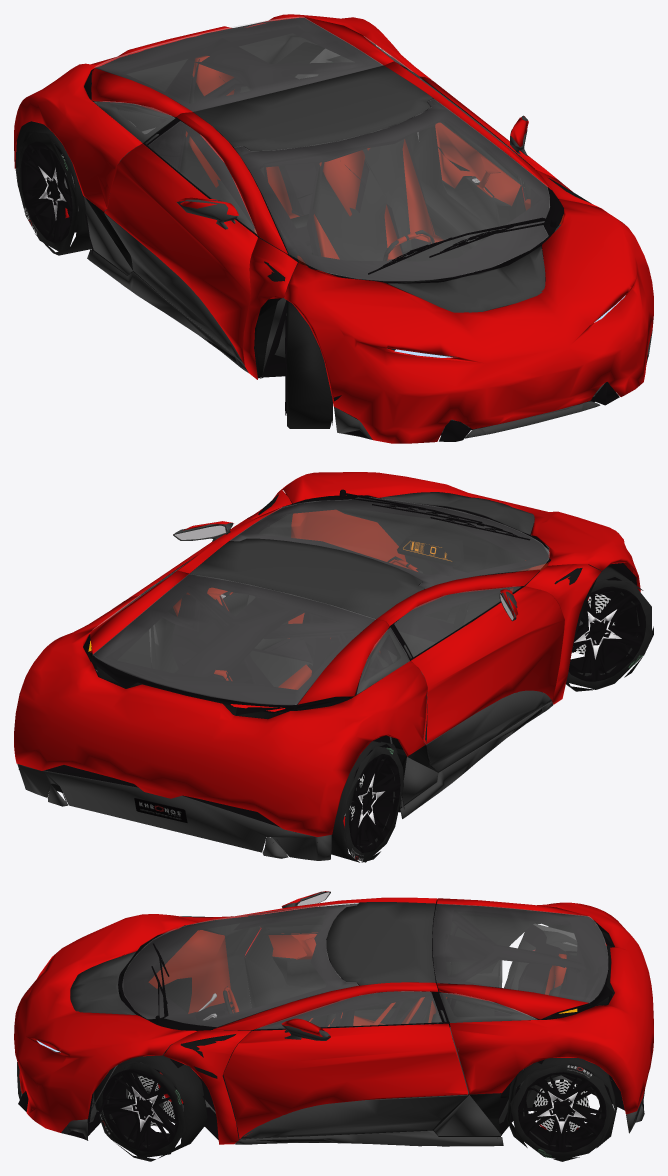
Rendered from car.glb.
3 views of the same model, one above another, from view 1: azimuth 30°, elevation 25°; view 2: azimuth 150°, elevation 25°; view 3: azimuth 270°, elevation 25° (orthographic). The views are drawn at different scales.
Parts seen in each view (by area): view 1: BodyHood, BodyWindshield, BodyRearwindow, BodyDoorRColor1, BodyRearPanelsColor1, BodyWindshieldGasket, BodyRoofPanel, InteriorSeatsColor2, BodyPillars, InteriorRearHatch, InteriorSeatsColor1, InteriorPillar (+23 smaller); view 2: BodyRearPanelsColor1, BodyRearwindow, BodyWindshield, BodyDoorRColor1, BodyPanelsColor2, BodyRoofPanel, BodyHood, InteriorRearHatch, InteriorPillar, BodyPillars, BodyWindshieldGasket, WheelFrontRRim (+23 smaller); view 3: BodyRearPanelsColor1, BodyWindshield, BodyHood, BodyDoorLColor1, BodyRearwindow, BodyRoofPanel, BodyPillars, BodyWindshieldGasket, BodyDoorLColor2, InteriorMid, BodyPanelsColor2, InteriorRearHatch (+26 smaller).
Part boxes in pixels (x1,y1,x2,y2): BodyHood: (284,199,653,443); BodyWindshield: (234,99,549,280); BodyRearwindow: (94,17,382,111); BodyDoorRColor1: (104,144,257,364); BodyRearPanelsColor1: (14,14,431,211); BodyWindshieldGasket: (234,100,563,283); BodyRoofPanel: (193,65,432,151); InteriorSeatsColor2: (180,78,470,260); BodyPillars: (177,61,603,379); InteriorRearHatch: (96,17,383,117); InteriorSeatsColor1: (185,55,443,259); InteriorPillar: (159,38,435,170); BodyRearPanelsColor1: (14,571,427,836); BodyRearwindow: (93,574,375,704); BodyWindshield: (230,497,549,588); BodyDoorRColor1: (411,586,564,744); BodyPanelsColor2: (17,701,553,860); BodyRoofPanel: (190,538,424,619); BodyHood: (279,472,640,591); InteriorRearHatch: (93,574,374,713); InteriorPillar: (174,576,419,800); BodyPillars: (173,490,601,704); BodyWindshieldGasket: (231,497,550,589); WheelFrontRRim: (568,578,645,681); BodyRearPanelsColor1: (436,898,653,1114); BodyWindshield: (122,903,358,1026); BodyHood: (14,914,196,1132); BodyDoorLColor1: (223,1023,468,1138); BodyRearwindow: (433,904,607,1002); BodyRoofPanel: (326,902,435,985); BodyPillars: (163,897,438,1144); BodyWindshieldGasket: (118,903,358,1030); BodyDoorLColor2: (240,1094,467,1139); InteriorMid: (180,916,500,1143); BodyPanelsColor2: (17,960,644,1146); InteriorRearHatch: (437,904,607,1019).
Bounding box in the file's own units: 2.54 × 1.15 × 4.35.
Materials: 23 (6 with a texture image).
